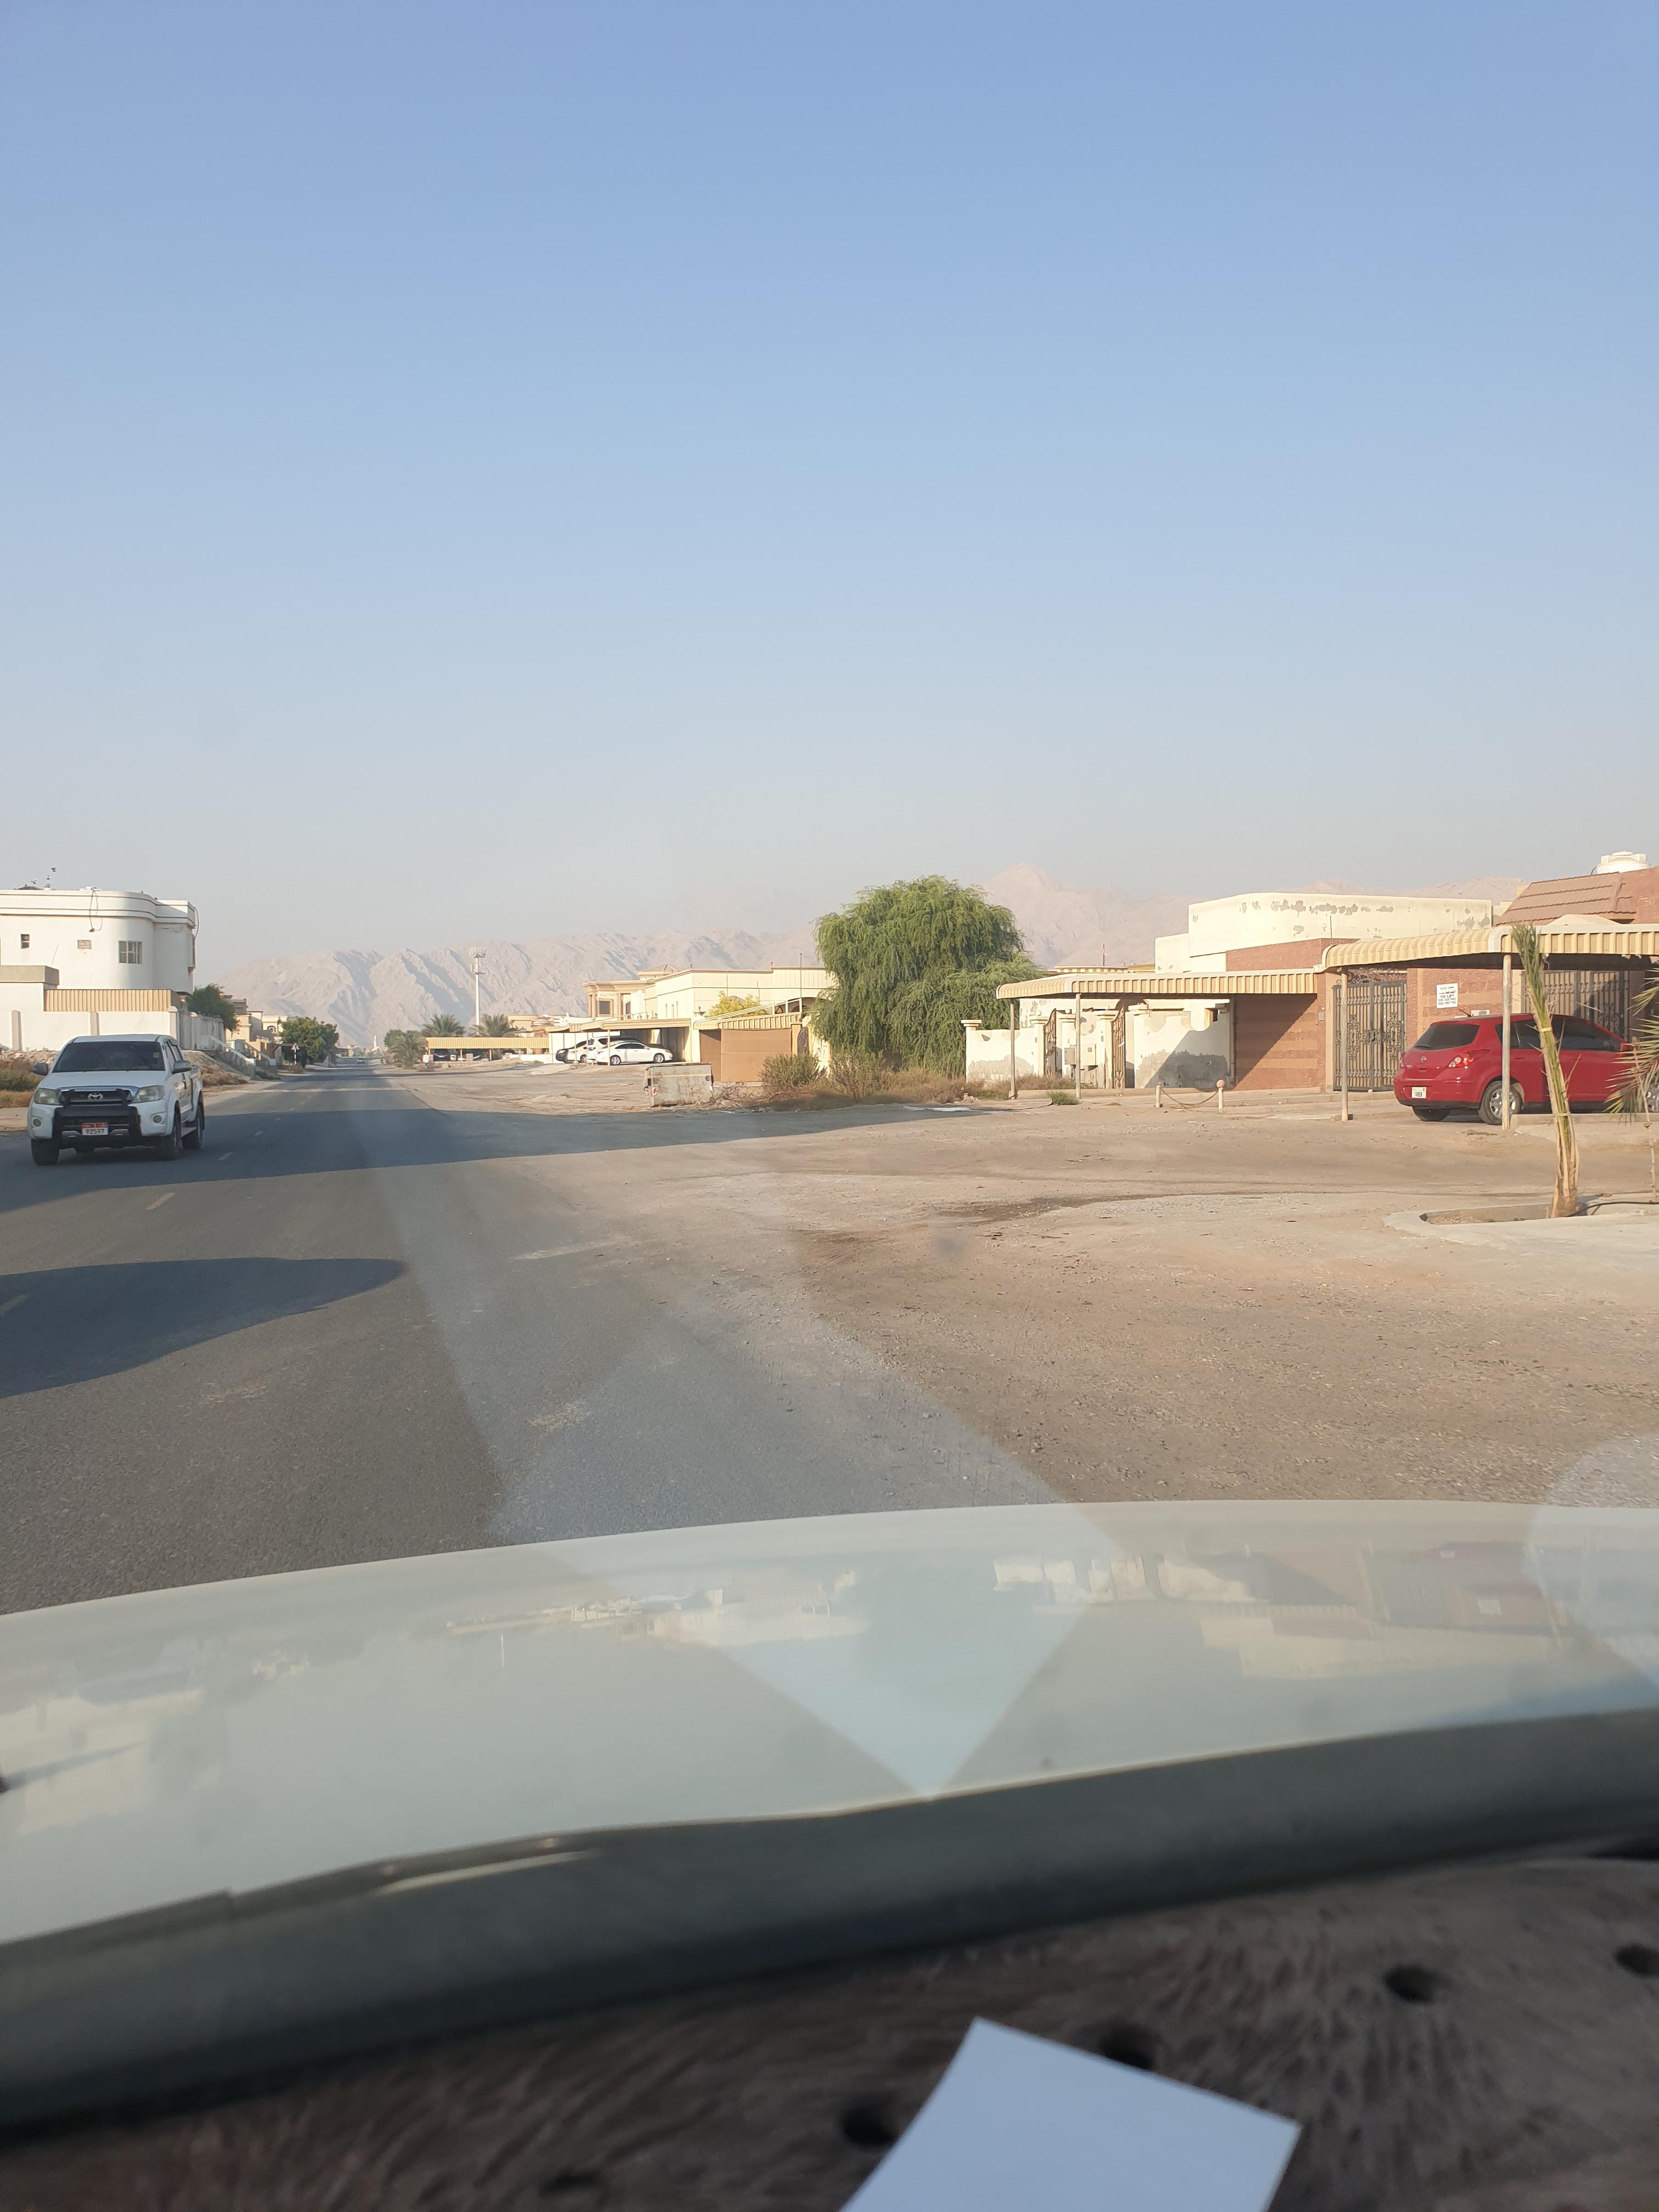fallen_trees: (694, 1094, 775, 1113)
